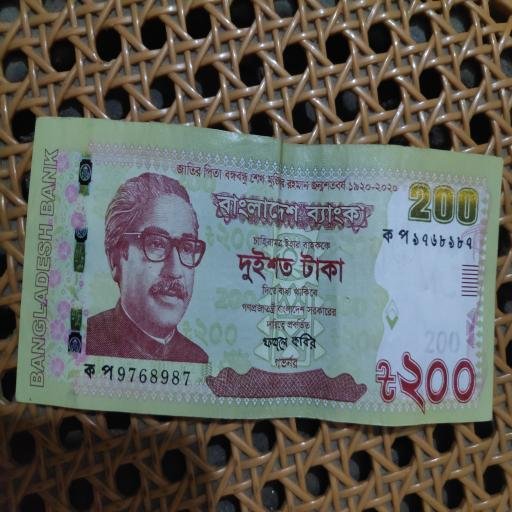200taka: (17, 120, 506, 419)
